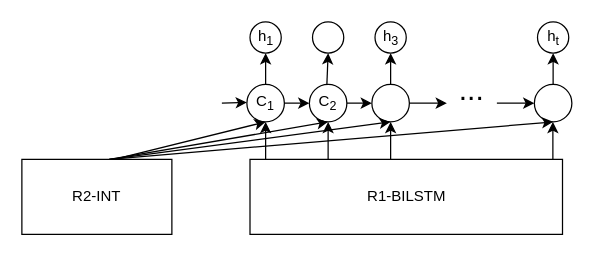
Some shapes in this 594 by 256 pixel diagram are drawn without their labels. Each missing label, with the centre of its shape:
"C 3" goes at point 390,102.
"C t" goes at point 552,102.
"h 2" goes at point 327,37.
